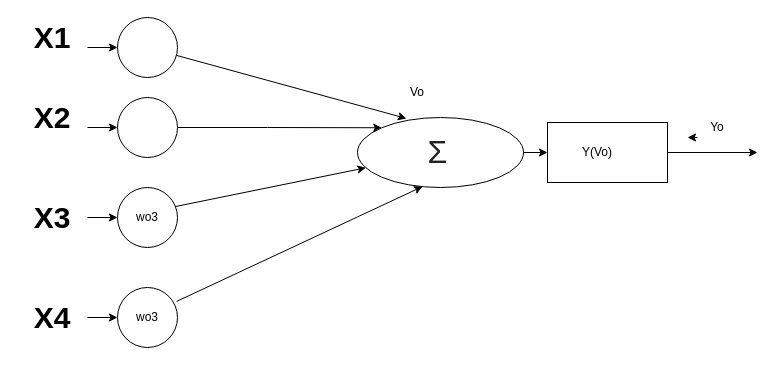
The diagram is 783 pixels wide and 365 high, and some of its shapes have lost their labels. Each missing label, with the centre of its shape:
"wo1" goes at pixel 147 47.
"wo2" goes at pixel 147 127.
